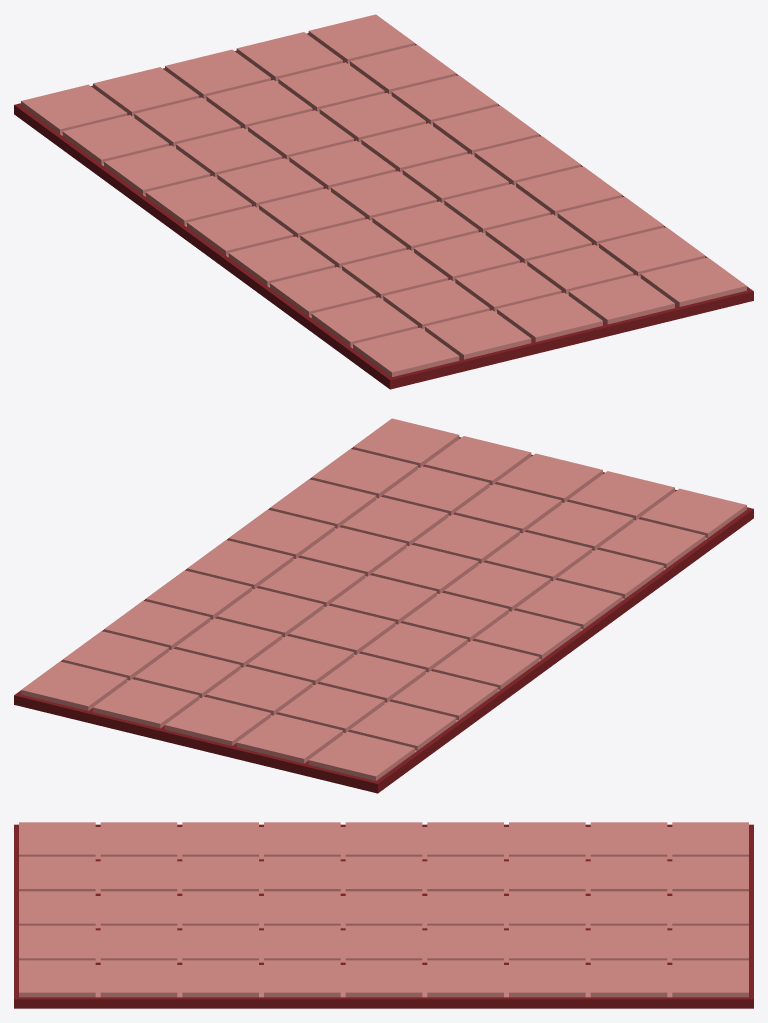
The model's file is BattleTable.fbx.
3 views of the same model, one above another, from view 1: azimuth 30°, elevation 25°; view 2: azimuth 150°, elevation 25°; view 3: azimuth 270°, elevation 25° (orthographic).
Parts seen in each view (by area): view 1: Cube; view 2: Cube; view 3: Cube.
Part boxes in pixels (left/top/right/bottom): Cube: left=14, top=14, right=753, bottom=389; Cube: left=14, top=418, right=753, bottom=793; Cube: left=14, top=822, right=753, bottom=1008.
Size of the model in its own units: 1620 by 60 by 2900.
